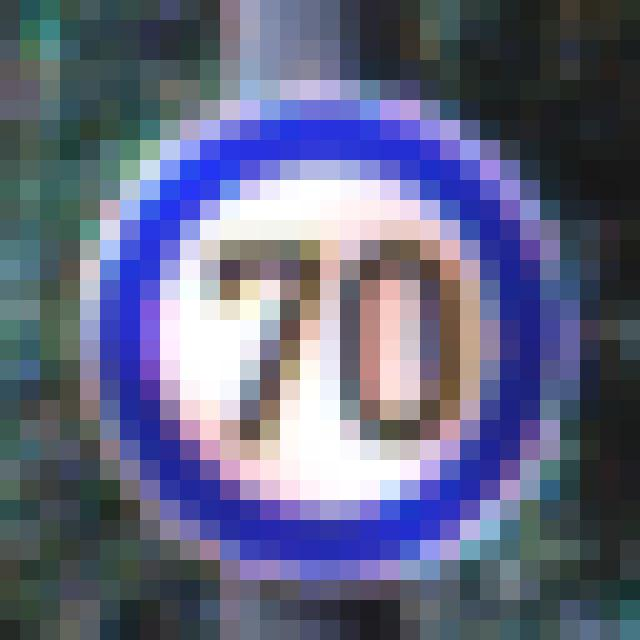SPEED LIMIT 70: (90, 107, 572, 576)
